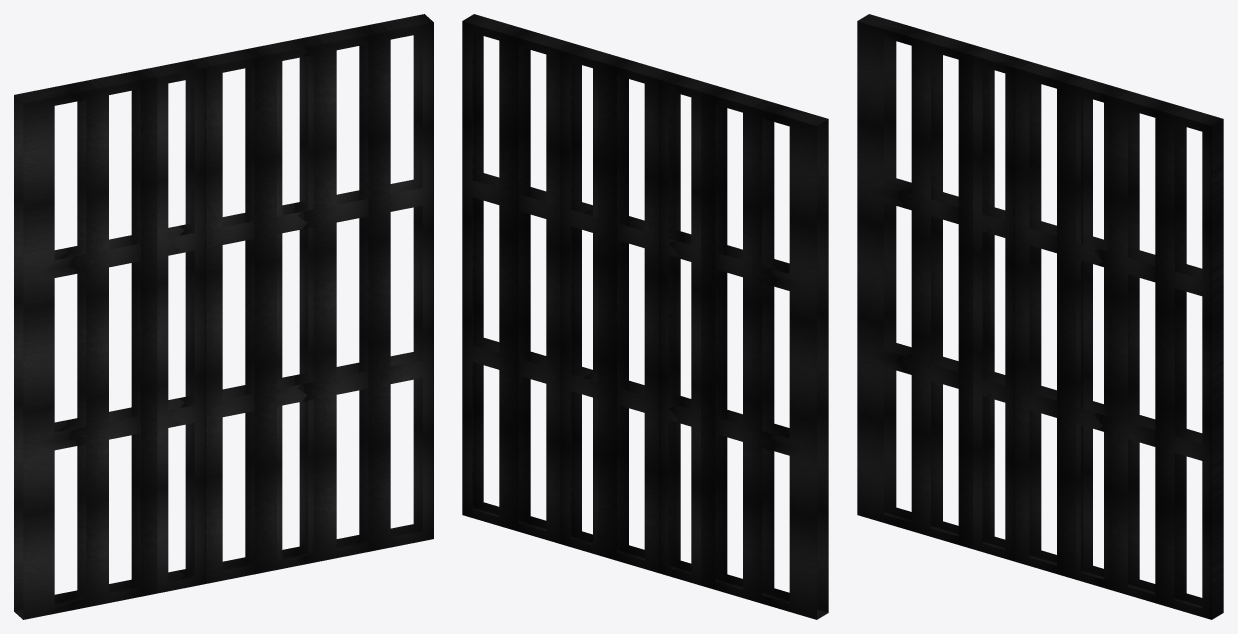
The model's file is puerta1.obj.
The picture shows the model from 3 angles, left to right: view 1: azimuth 30°, elevation 25°; view 2: azimuth 150°, elevation 25°; view 3: azimuth 330°, elevation 25°; orthographic projection. The views are drawn at different scales.
Parts seen in each view (by area): view 1: Grid; view 2: Grid; view 3: Grid.
Boxes of the visible parts, x1,y1,x2,y2 form: Grid: (14,14,433,619); Grid: (462,14,828,619); Grid: (857,14,1223,619).
Size of the model in its own units: 0.396 by 0.4982 by 0.0534.
1 material, 1 textured.
